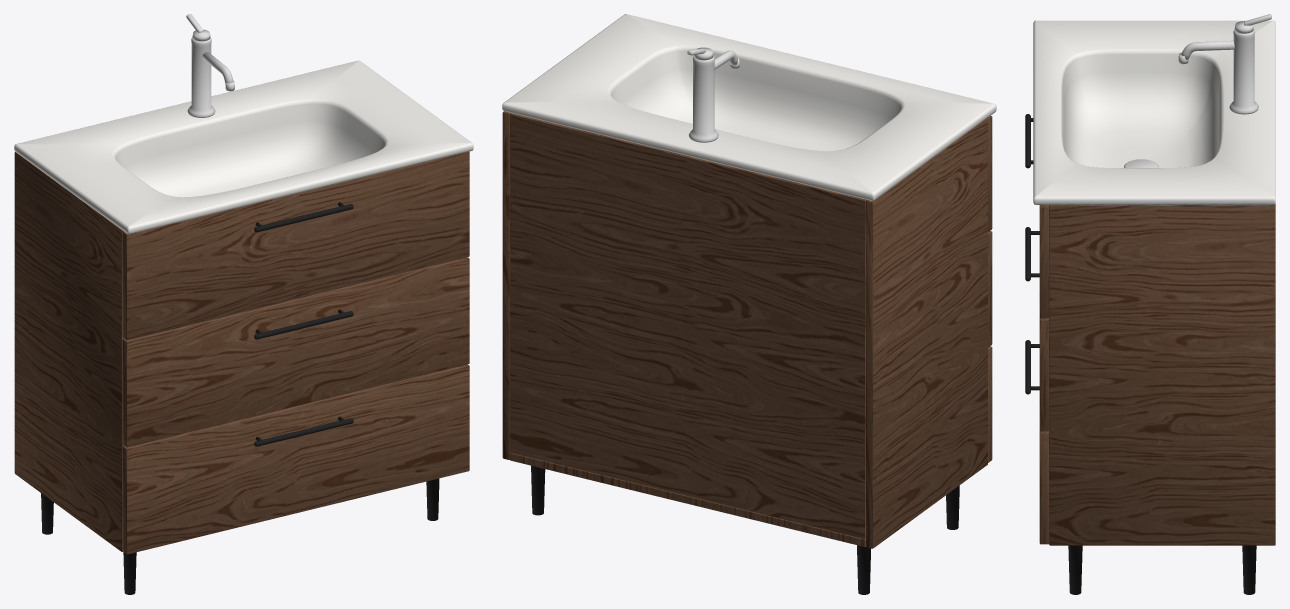
File: mueble_lavabo_suelo_80_nogal.glb
3 views of the same model, side by side, from view 1: azimuth 30°, elevation 25°; view 2: azimuth 150°, elevation 25°; view 3: azimuth 270°, elevation 25° (orthographic). The views are drawn at different scales.
Parts seen in each view (by area): view 1: mueble_lavabo_suelo_80_nogal; view 2: mueble_lavabo_suelo_80_nogal; view 3: mueble_lavabo_suelo_80_nogal.
Part boxes in pixels (x1,y1,x2,y2): mueble_lavabo_suelo_80_nogal: [14, 14, 473, 594]; mueble_lavabo_suelo_80_nogal: [502, 14, 996, 594]; mueble_lavabo_suelo_80_nogal: [1025, 14, 1275, 594].
Size of the model in its own units: 0.8001 by 1.05 by 0.4755.
Materials: 4 (1 with a texture image).
